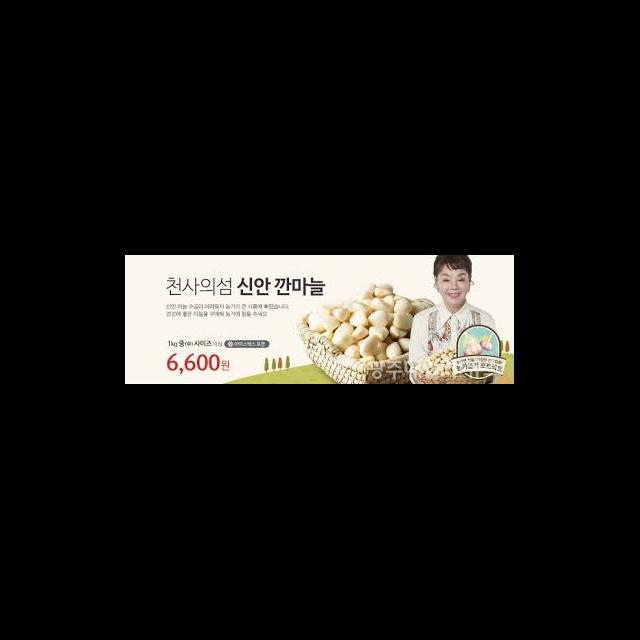garlic: (342, 293, 412, 352)
